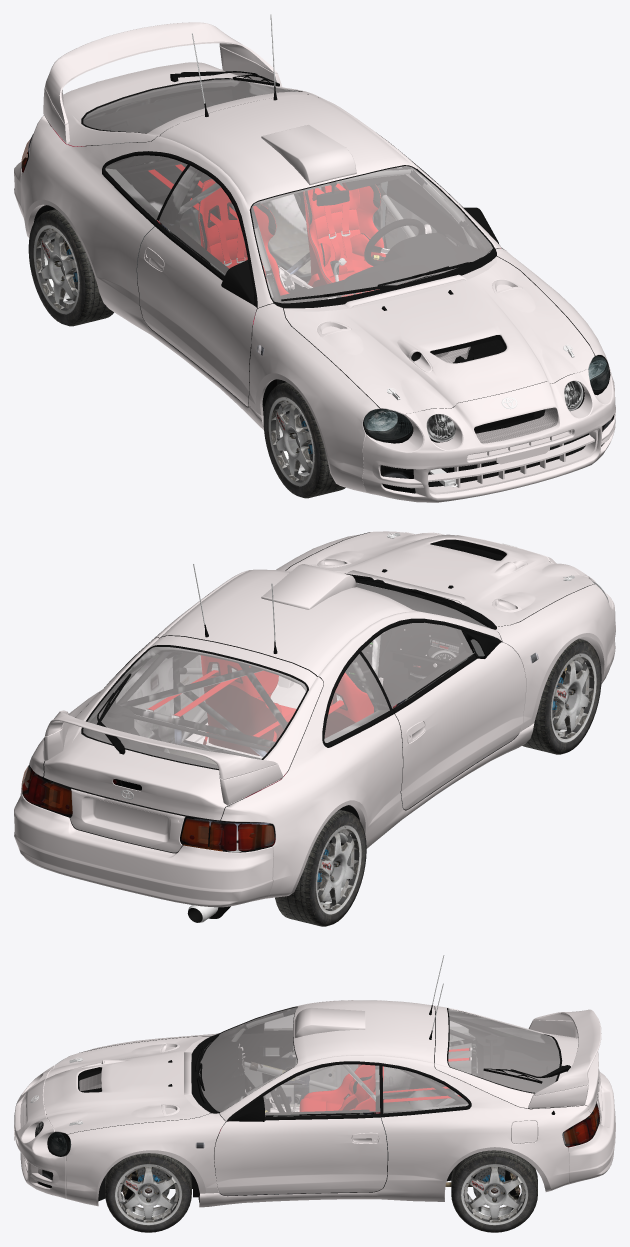
The picture shows the model from 3 angles, top to bottom: view 1: azimuth 30°, elevation 25°; view 2: azimuth 150°, elevation 25°; view 3: azimuth 270°, elevation 25°; orthographic projection. The views are drawn at different scales.
Parts seen in each view (by area): view 1: GTFOUR_SUB1_11, MOTORHOOD_SUB3_95, x0_window_f_68, FRONT_BUMPER_SUB3_4, x0_door_fr_SUB1_35, x0_wing_fr_SUB2_77, REAR_WING_0, x0_boot_SUB2_27, x0_window_fr_70, x0_main_interior_57, x0_window_b_65, seatR_cloth_147 (+32 smaller); view 2: GTFOUR_SUB1_11, x0_window_b_65, MOTORHOOD_SUB3_95, x0_boot_SUB2_27, x0_door_fr_SUB1_35, REAR_BUMPER.001_97, x0_main_interior_57, x0_wing_fr_SUB2_77, x0_window_fr_70, x0_under_b_SUB1_59, REAR_WING_0, x0_window_br_67 (+38 smaller); view 3: GTFOUR_SUB1_11, x0_door_fl_SUB1_31, MOTORHOOD_SUB3_95, x0_wing_fl_SUB2_73, x0_window_f_68, x0_window_b_65, x0_window_fl_69, REAR_WING_0, x0_under_b_SUB0_58, x0_main_interior_57, x0_boot_SUB2_27, x0_window_bl_66 (+32 smaller).
Part boxes in pixels (box(x1,y1,x2,y2)): GTFOUR_SUB1_11: box(21, 95, 501, 429); MOTORHOOD_SUB3_95: box(283, 256, 594, 414); x0_window_f_68: box(251, 166, 492, 303); FRONT_BUMPER_SUB3_4: box(404, 369, 607, 502); x0_door_fr_SUB1_35: box(137, 227, 256, 406); x0_wing_fr_SUB2_77: box(248, 303, 380, 493); REAR_WING_0: box(43, 22, 282, 144); x0_boot_SUB2_27: box(58, 62, 318, 146); x0_window_fr_70: box(159, 166, 247, 274); x0_main_interior_57: box(105, 157, 382, 283); x0_window_b_65: box(83, 79, 300, 133); seatR_cloth_147: box(303, 184, 385, 296); GTFOUR_SUB1_11: box(22, 564, 534, 899); x0_window_b_65: box(83, 647, 306, 768); MOTORHOOD_SUB3_95: box(286, 531, 594, 626); x0_boot_SUB2_27: box(44, 635, 323, 820); x0_door_fr_SUB1_35: box(395, 642, 526, 809); REAR_BUMPER.001_97: box(17, 801, 246, 907); x0_main_interior_57: box(116, 652, 389, 764); x0_wing_fr_SUB2_77: box(496, 584, 614, 731); x0_window_fr_70: box(361, 622, 472, 708); x0_under_b_SUB1_59: box(70, 789, 185, 852); REAR_WING_0: box(43, 710, 283, 805); x0_window_br_67: box(324, 654, 389, 742); GTFOUR_SUB1_11: box(199, 1000, 590, 1207); x0_door_fl_SUB1_31: box(214, 1117, 387, 1195); MOTORHOOD_SUB3_95: box(43, 1036, 210, 1134); x0_wing_fl_SUB2_73: box(66, 1113, 225, 1206); x0_window_f_68: box(199, 1007, 297, 1112); x0_window_b_65: box(448, 1008, 559, 1092); x0_window_fl_69: box(263, 1064, 380, 1116); REAR_WING_0: box(528, 1009, 601, 1108); x0_under_b_SUB0_58: box(447, 1035, 599, 1181); x0_main_interior_57: box(383, 1026, 477, 1113); x0_boot_SUB2_27: box(434, 1005, 598, 1112); x0_window_bl_66: box(382, 1066, 468, 1113).
Size of what is drawn, in the model's own units: 1.77 by 1.73 by 4.42.
Materials: 33 (24 with a texture image).
